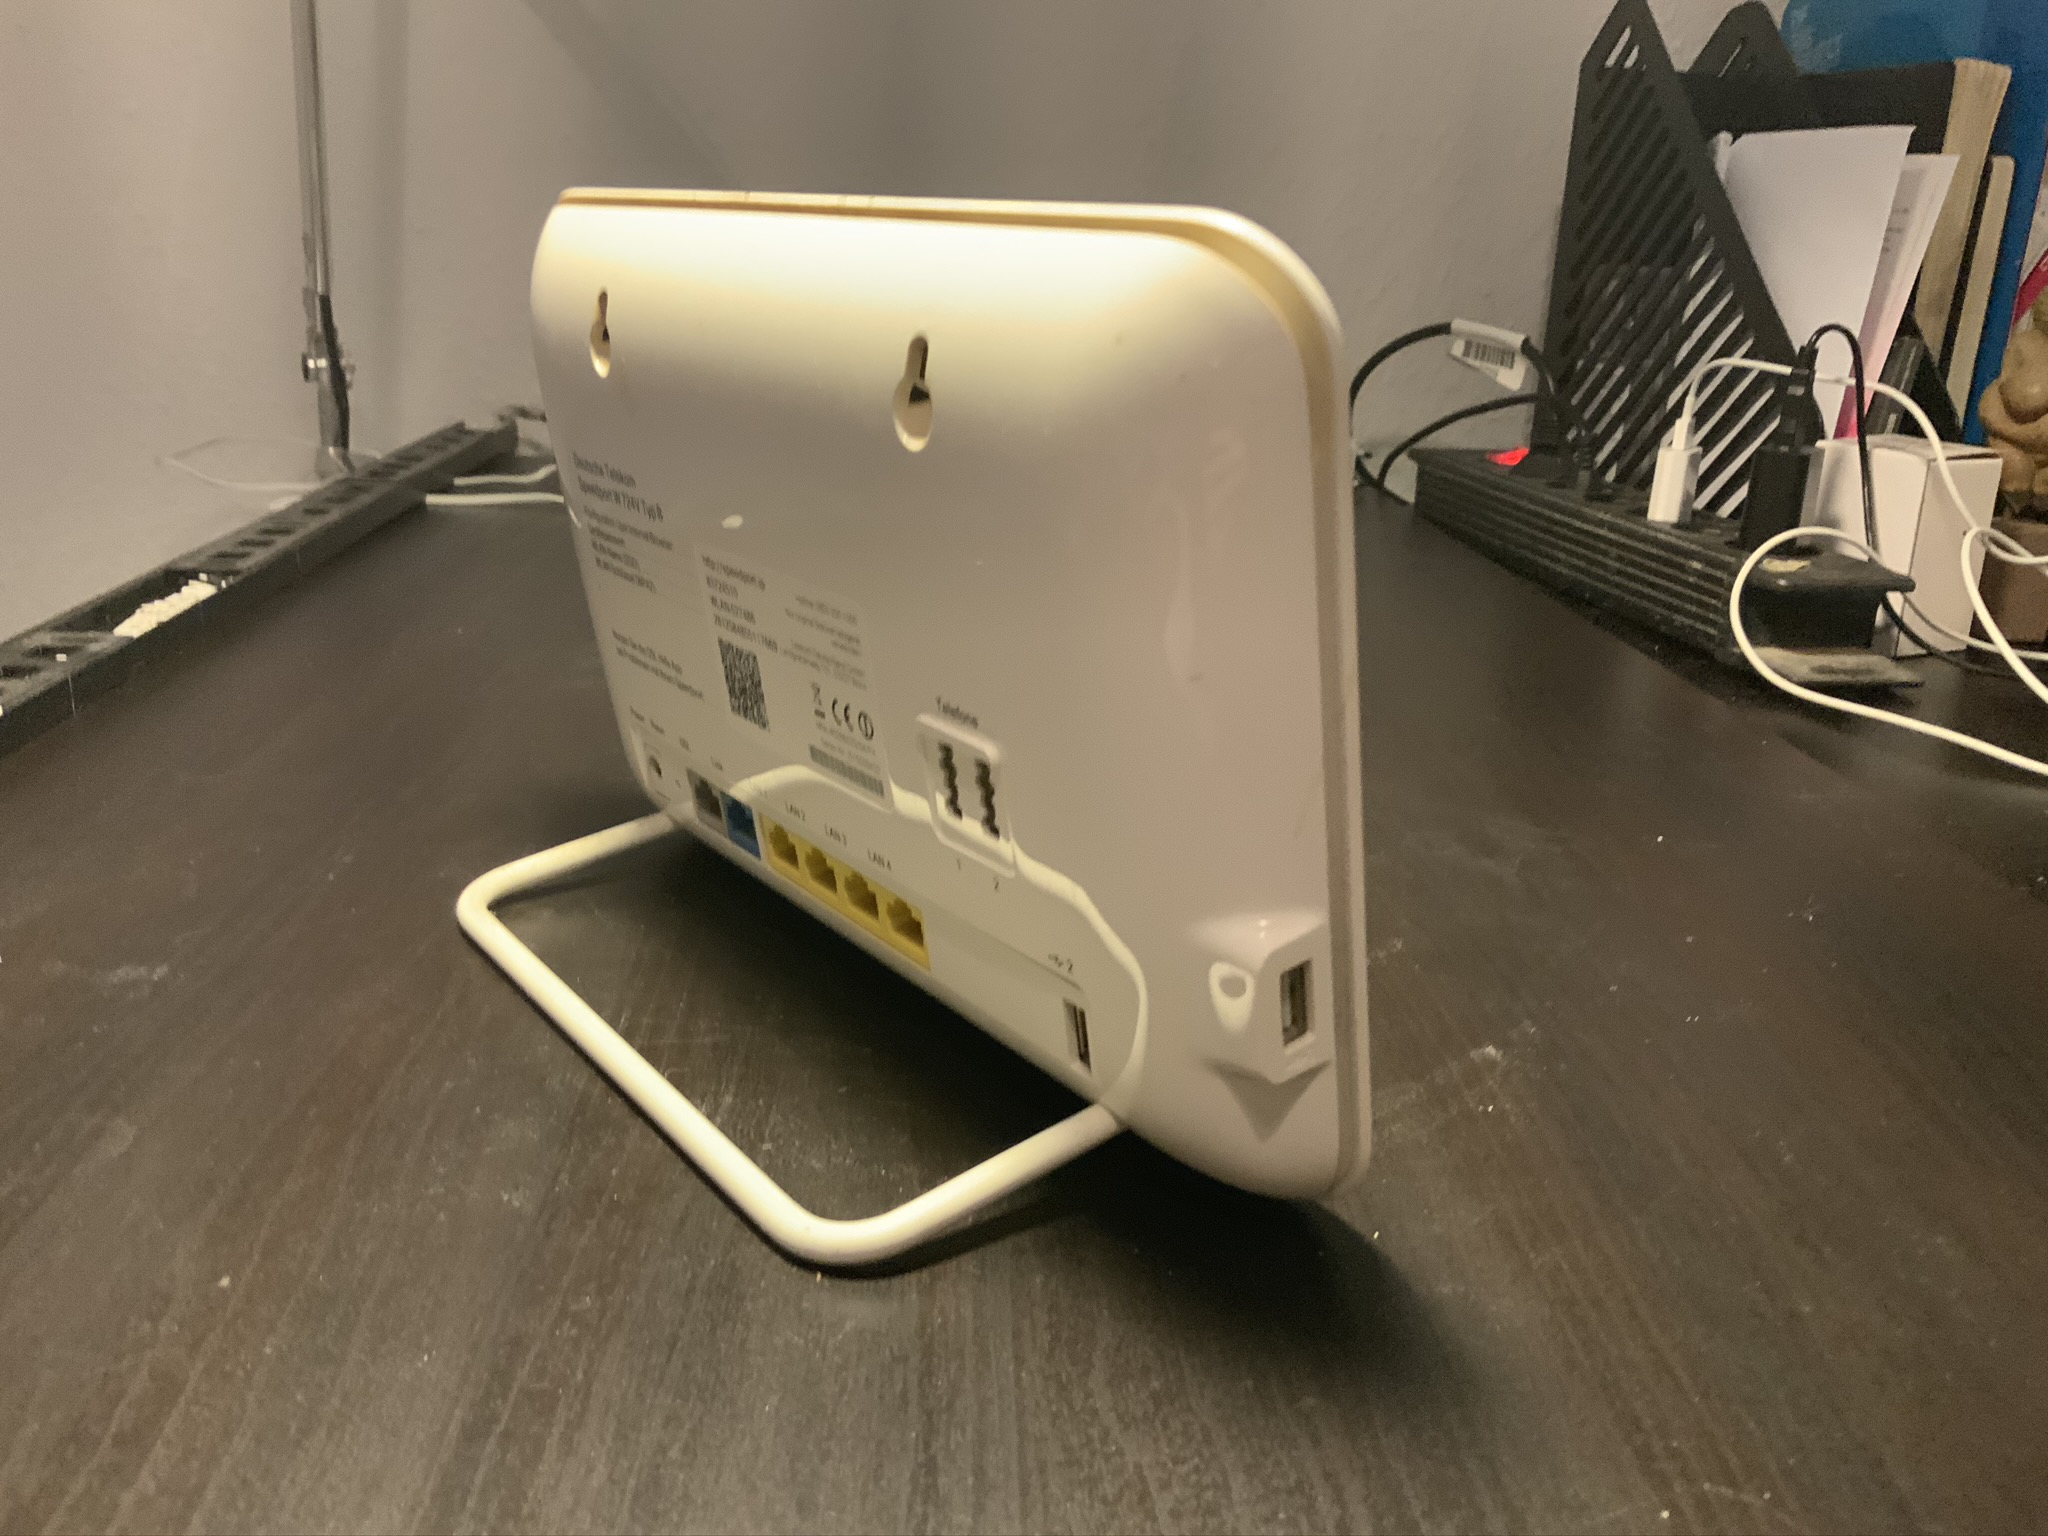router: (518, 165, 1387, 1234)
